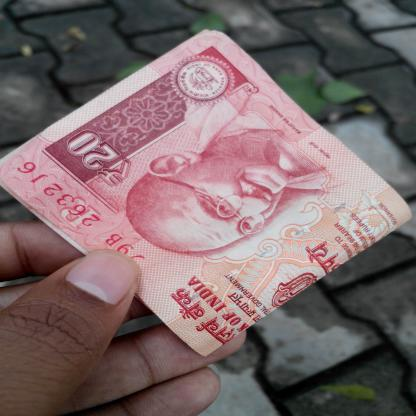Old20Front: (16, 39, 400, 342)
